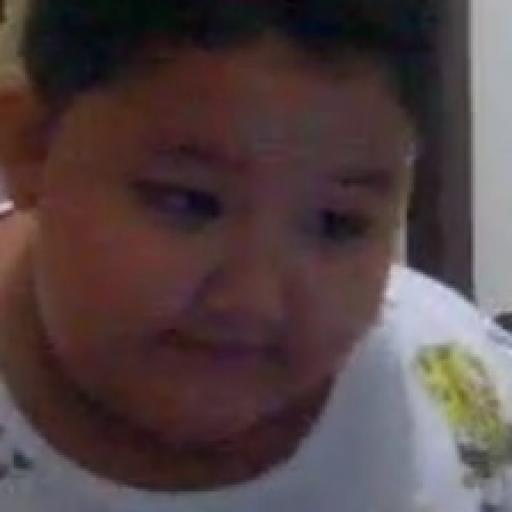Autism: (0, 0, 409, 501)
